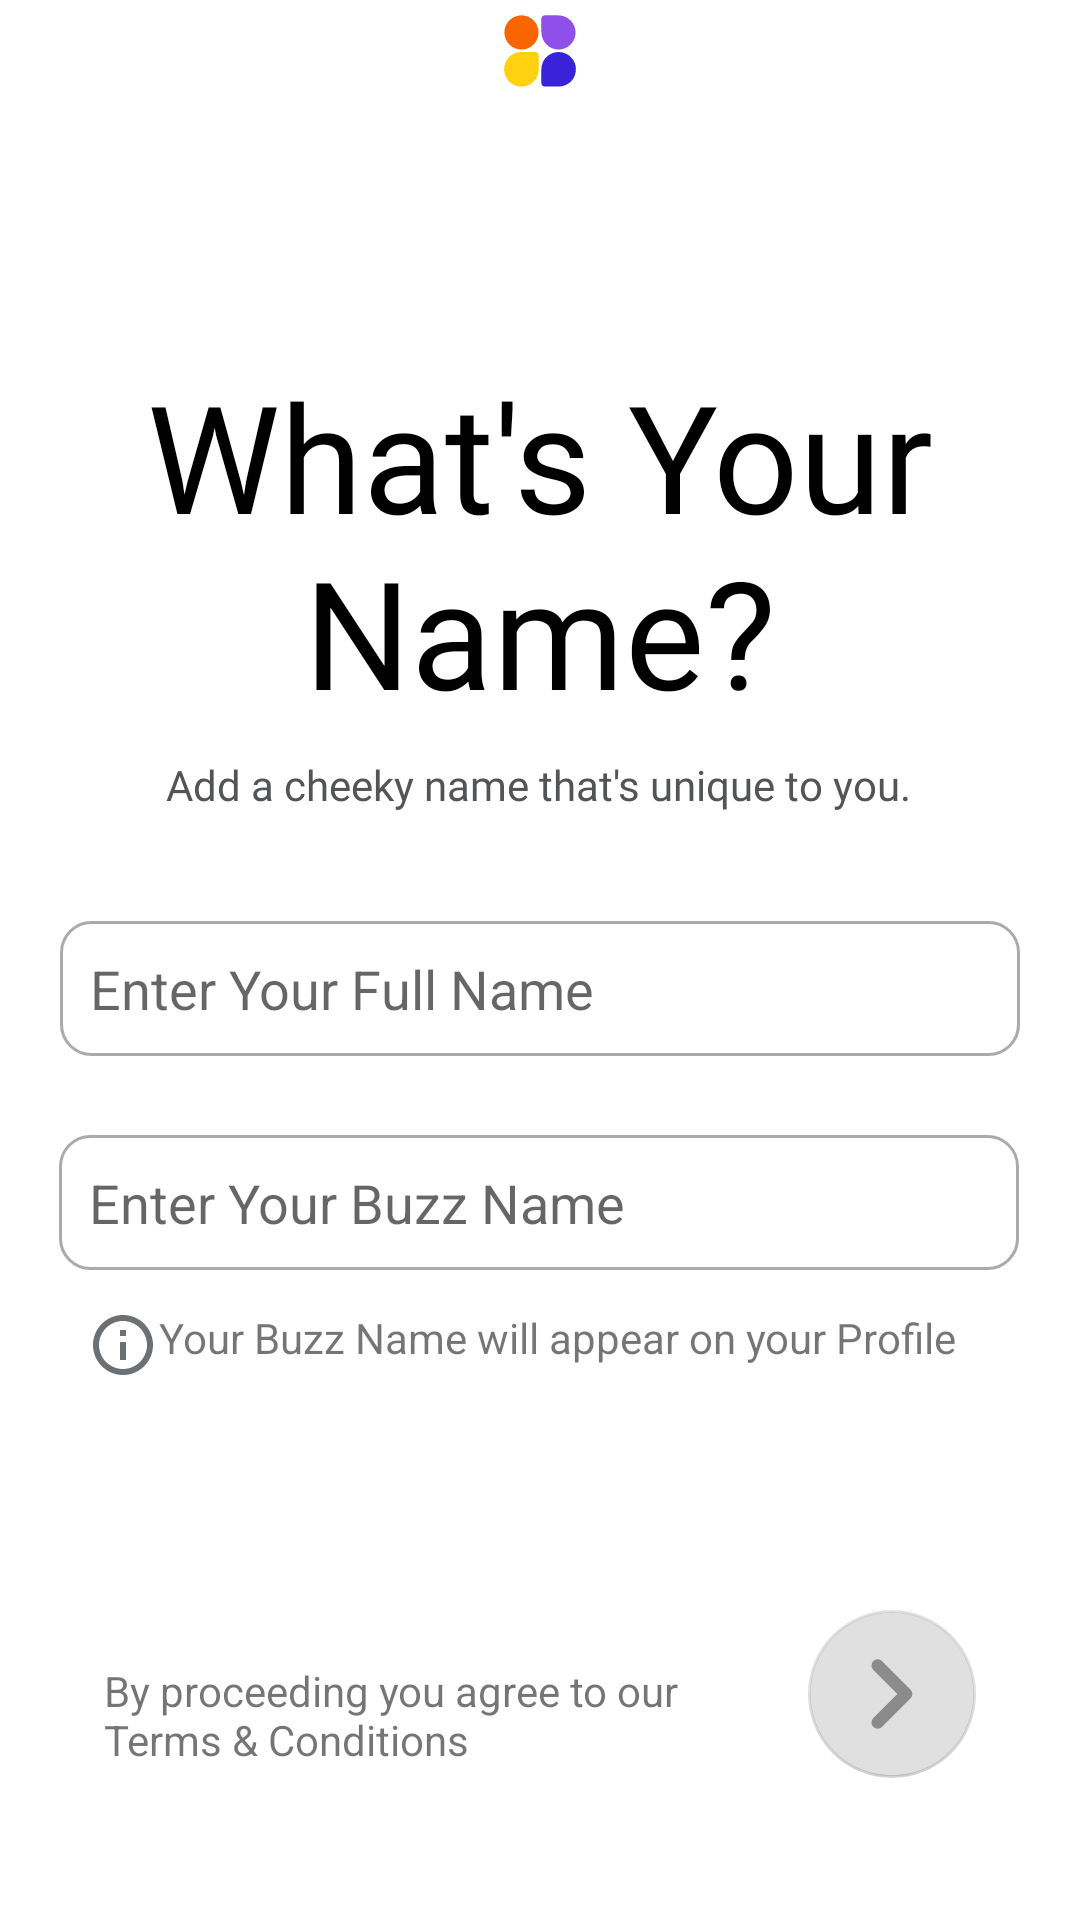

Point at icon controls on the screen. Image size 1080×1920, points as point (x, y).
Next Activity move: point (892, 1694)
